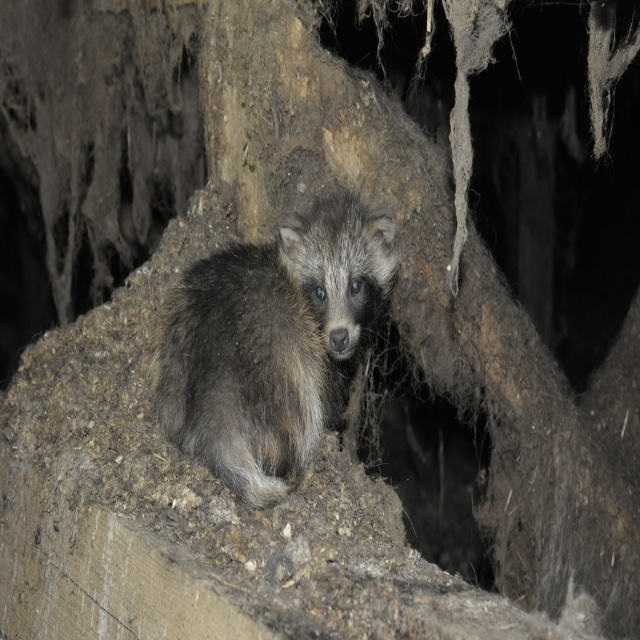Raccoon: (151, 191, 400, 510)
